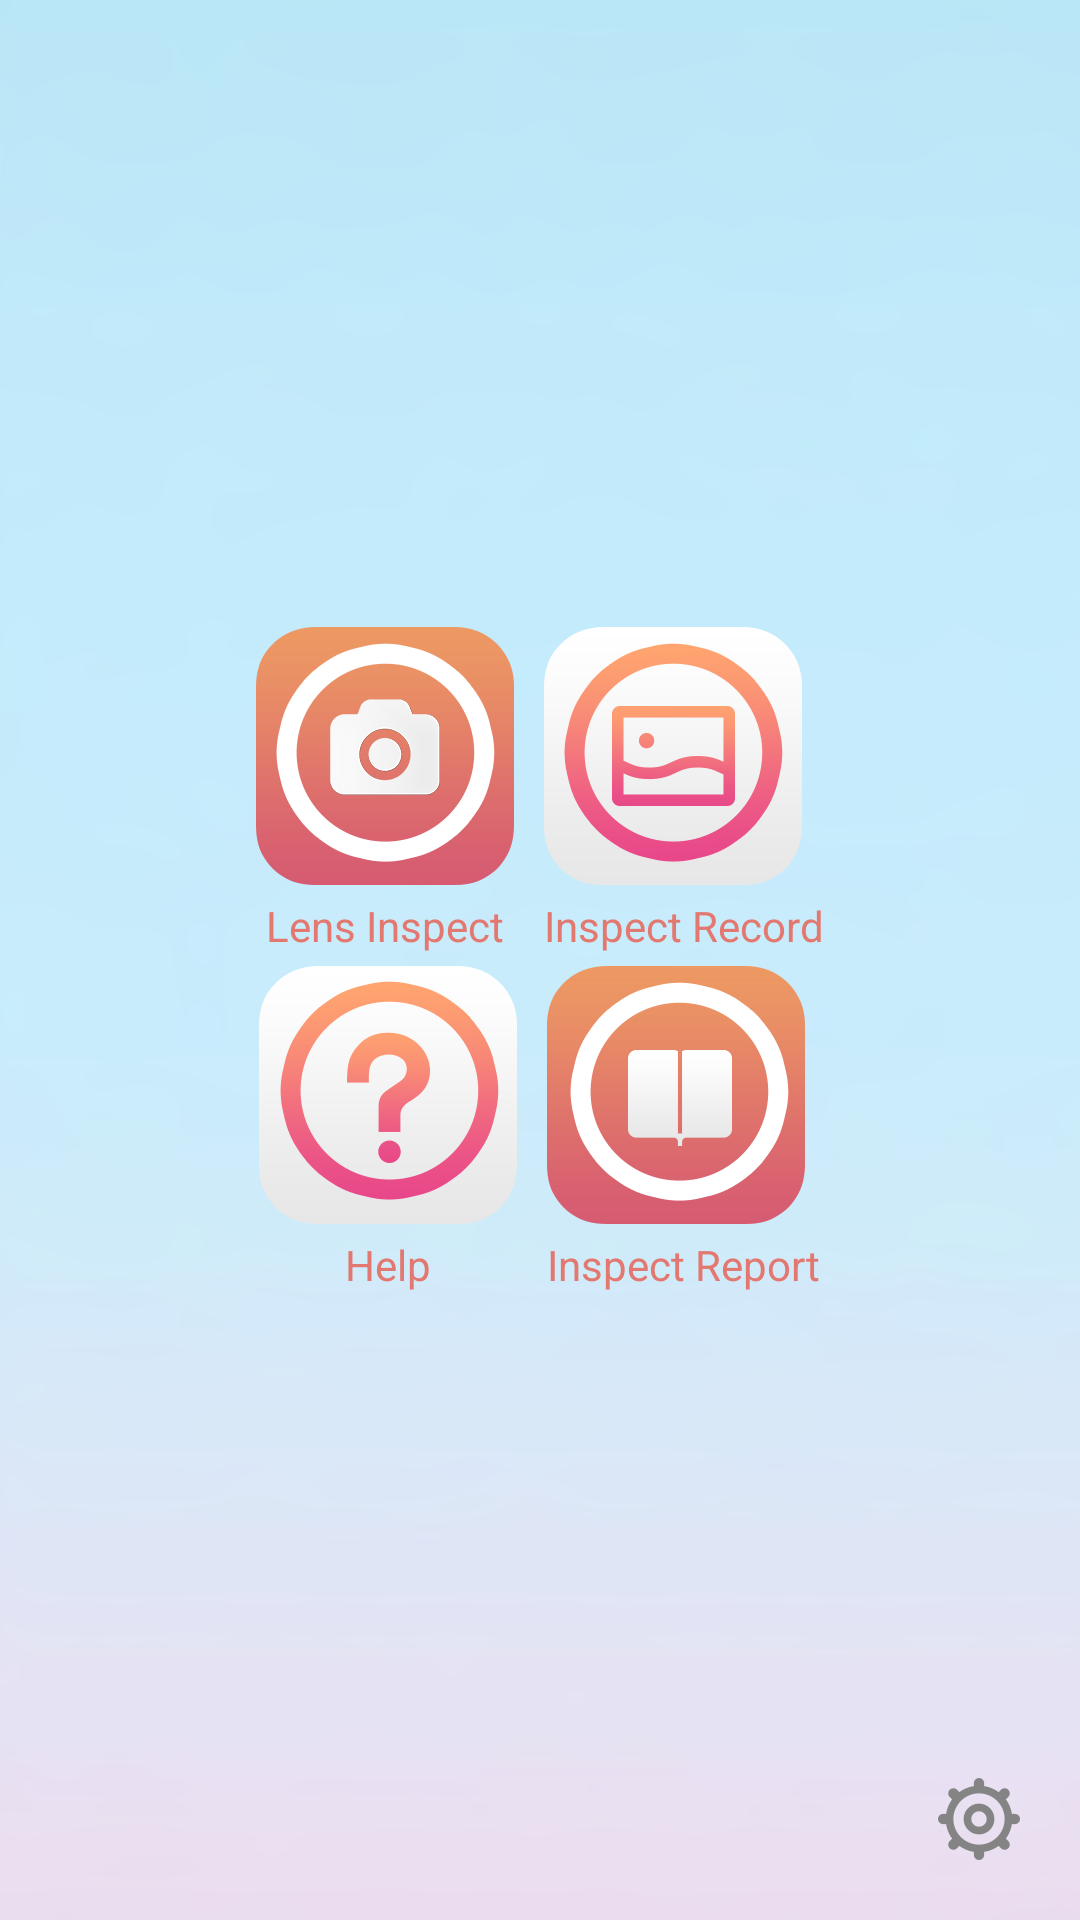

Screen size 1080x1920. Icon name, then its center in pixels as point (x, y):
setting: point (979, 1819)
